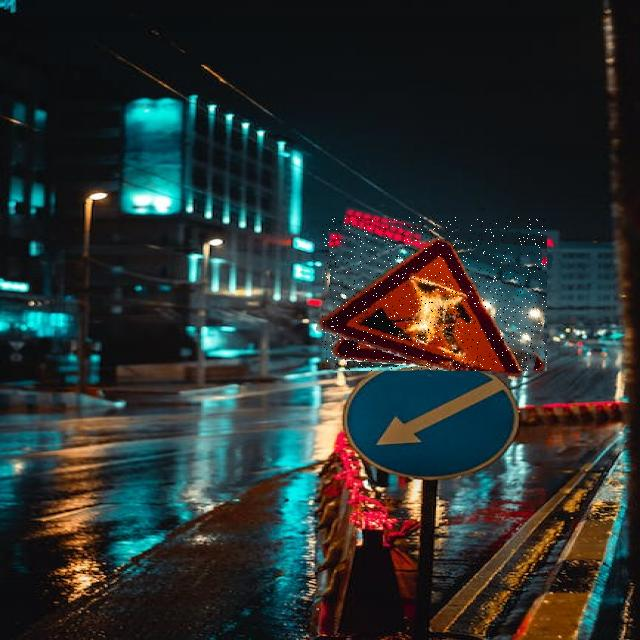roadwork: (322, 217, 547, 371)
